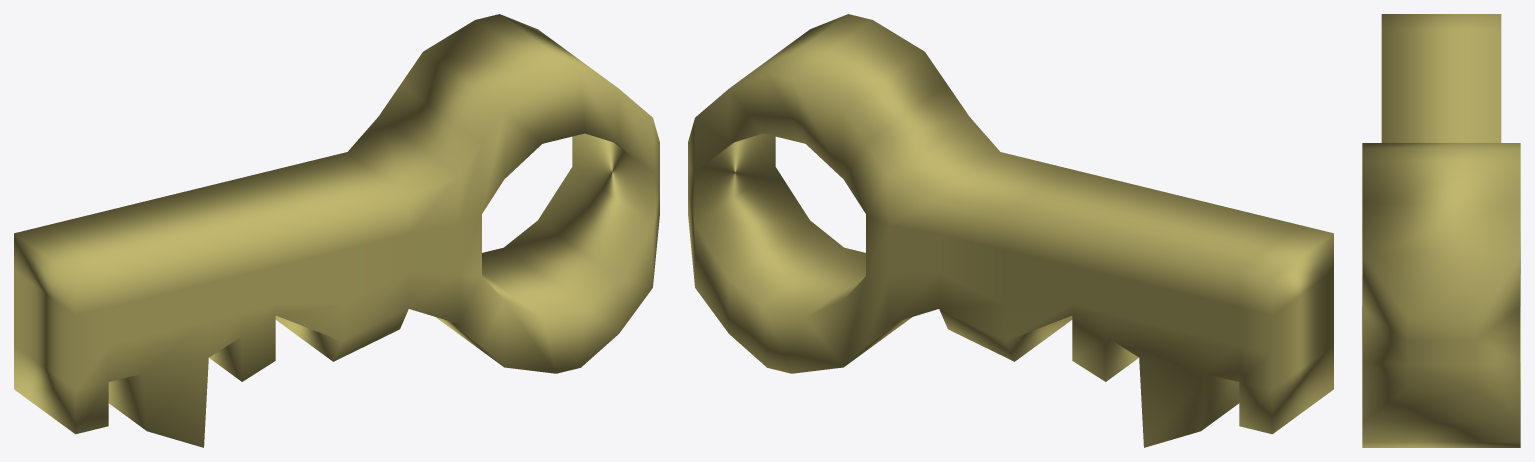
File: klucz.fbx
3 renders of one model, left to right at view 1: azimuth 30°, elevation 25°; view 2: azimuth 150°, elevation 25°; view 3: azimuth 270°, elevation 25°, orthographic. The views are drawn at different scales.
Parts seen in each view (by area): view 1: Cube; view 2: Cube; view 3: Cube.
Boxes of the visible parts, x1,y1,x2,y2 form: Cube: (14,14,659,447); Cube: (688,14,1333,447); Cube: (1362,14,1520,447).
Size of the model in its own units: 10.18 by 4.79 by 2.39.
